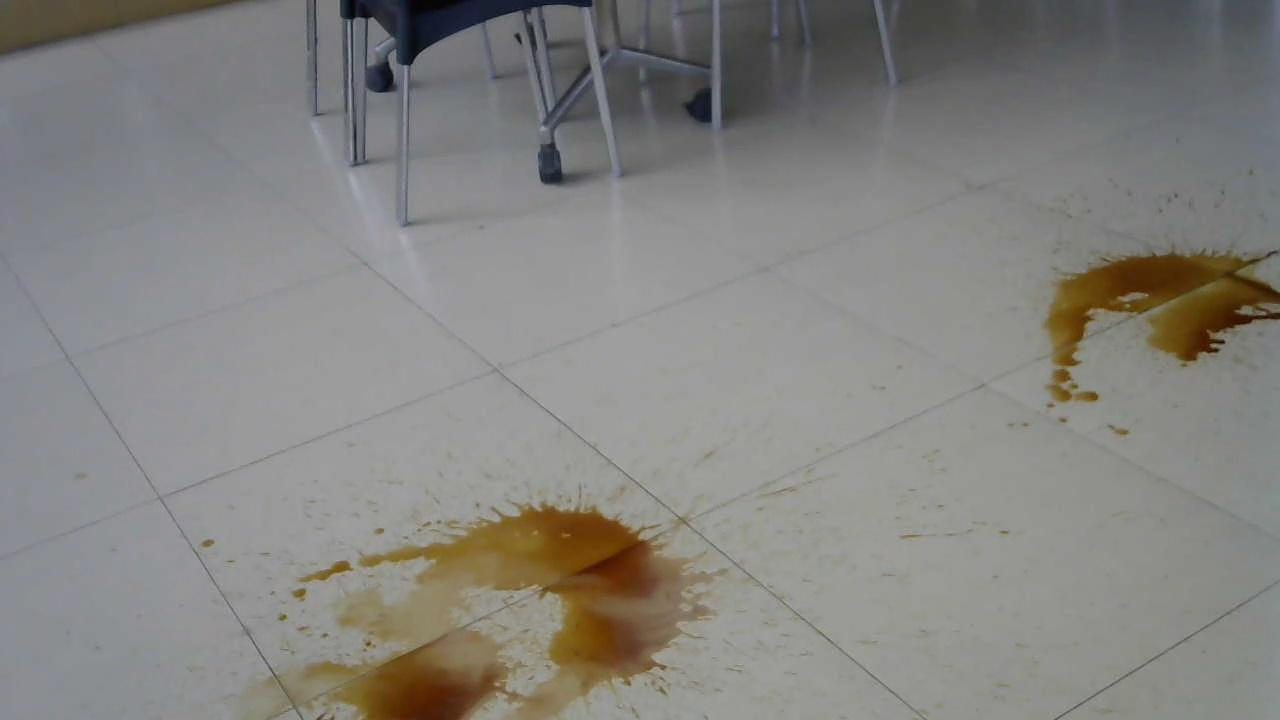dirty_floor: (251, 480, 728, 707), (1025, 225, 1277, 427)
